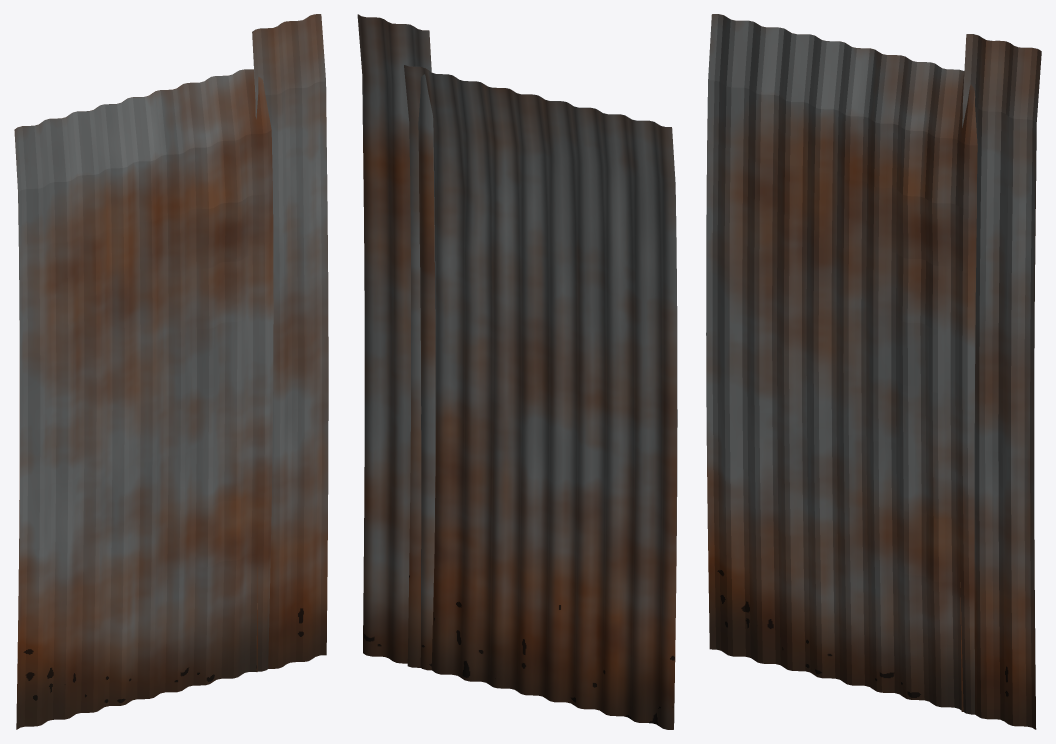
The model's file is S7U_Rev_Corrugated_1m.fbx.
3 renders of one model, left to right at view 1: azimuth 30°, elevation 25°; view 2: azimuth 150°, elevation 25°; view 3: azimuth 330°, elevation 25°, orthographic. The views are drawn at different scales.
Parts seen in each view (by area): view 1: S7U_Rev_Corrugated_1m; view 2: S7U_Rev_Corrugated_1m; view 3: S7U_Rev_Corrugated_1m.
Part boxes in pixels (box(x1,y1,x2,y2)): S7U_Rev_Corrugated_1m: box(14, 14, 328, 729); S7U_Rev_Corrugated_1m: box(357, 14, 677, 729); S7U_Rev_Corrugated_1m: box(706, 14, 1041, 729).
Bounding box in the file's own units: 1.06 × 2.09 × 0.0756.
